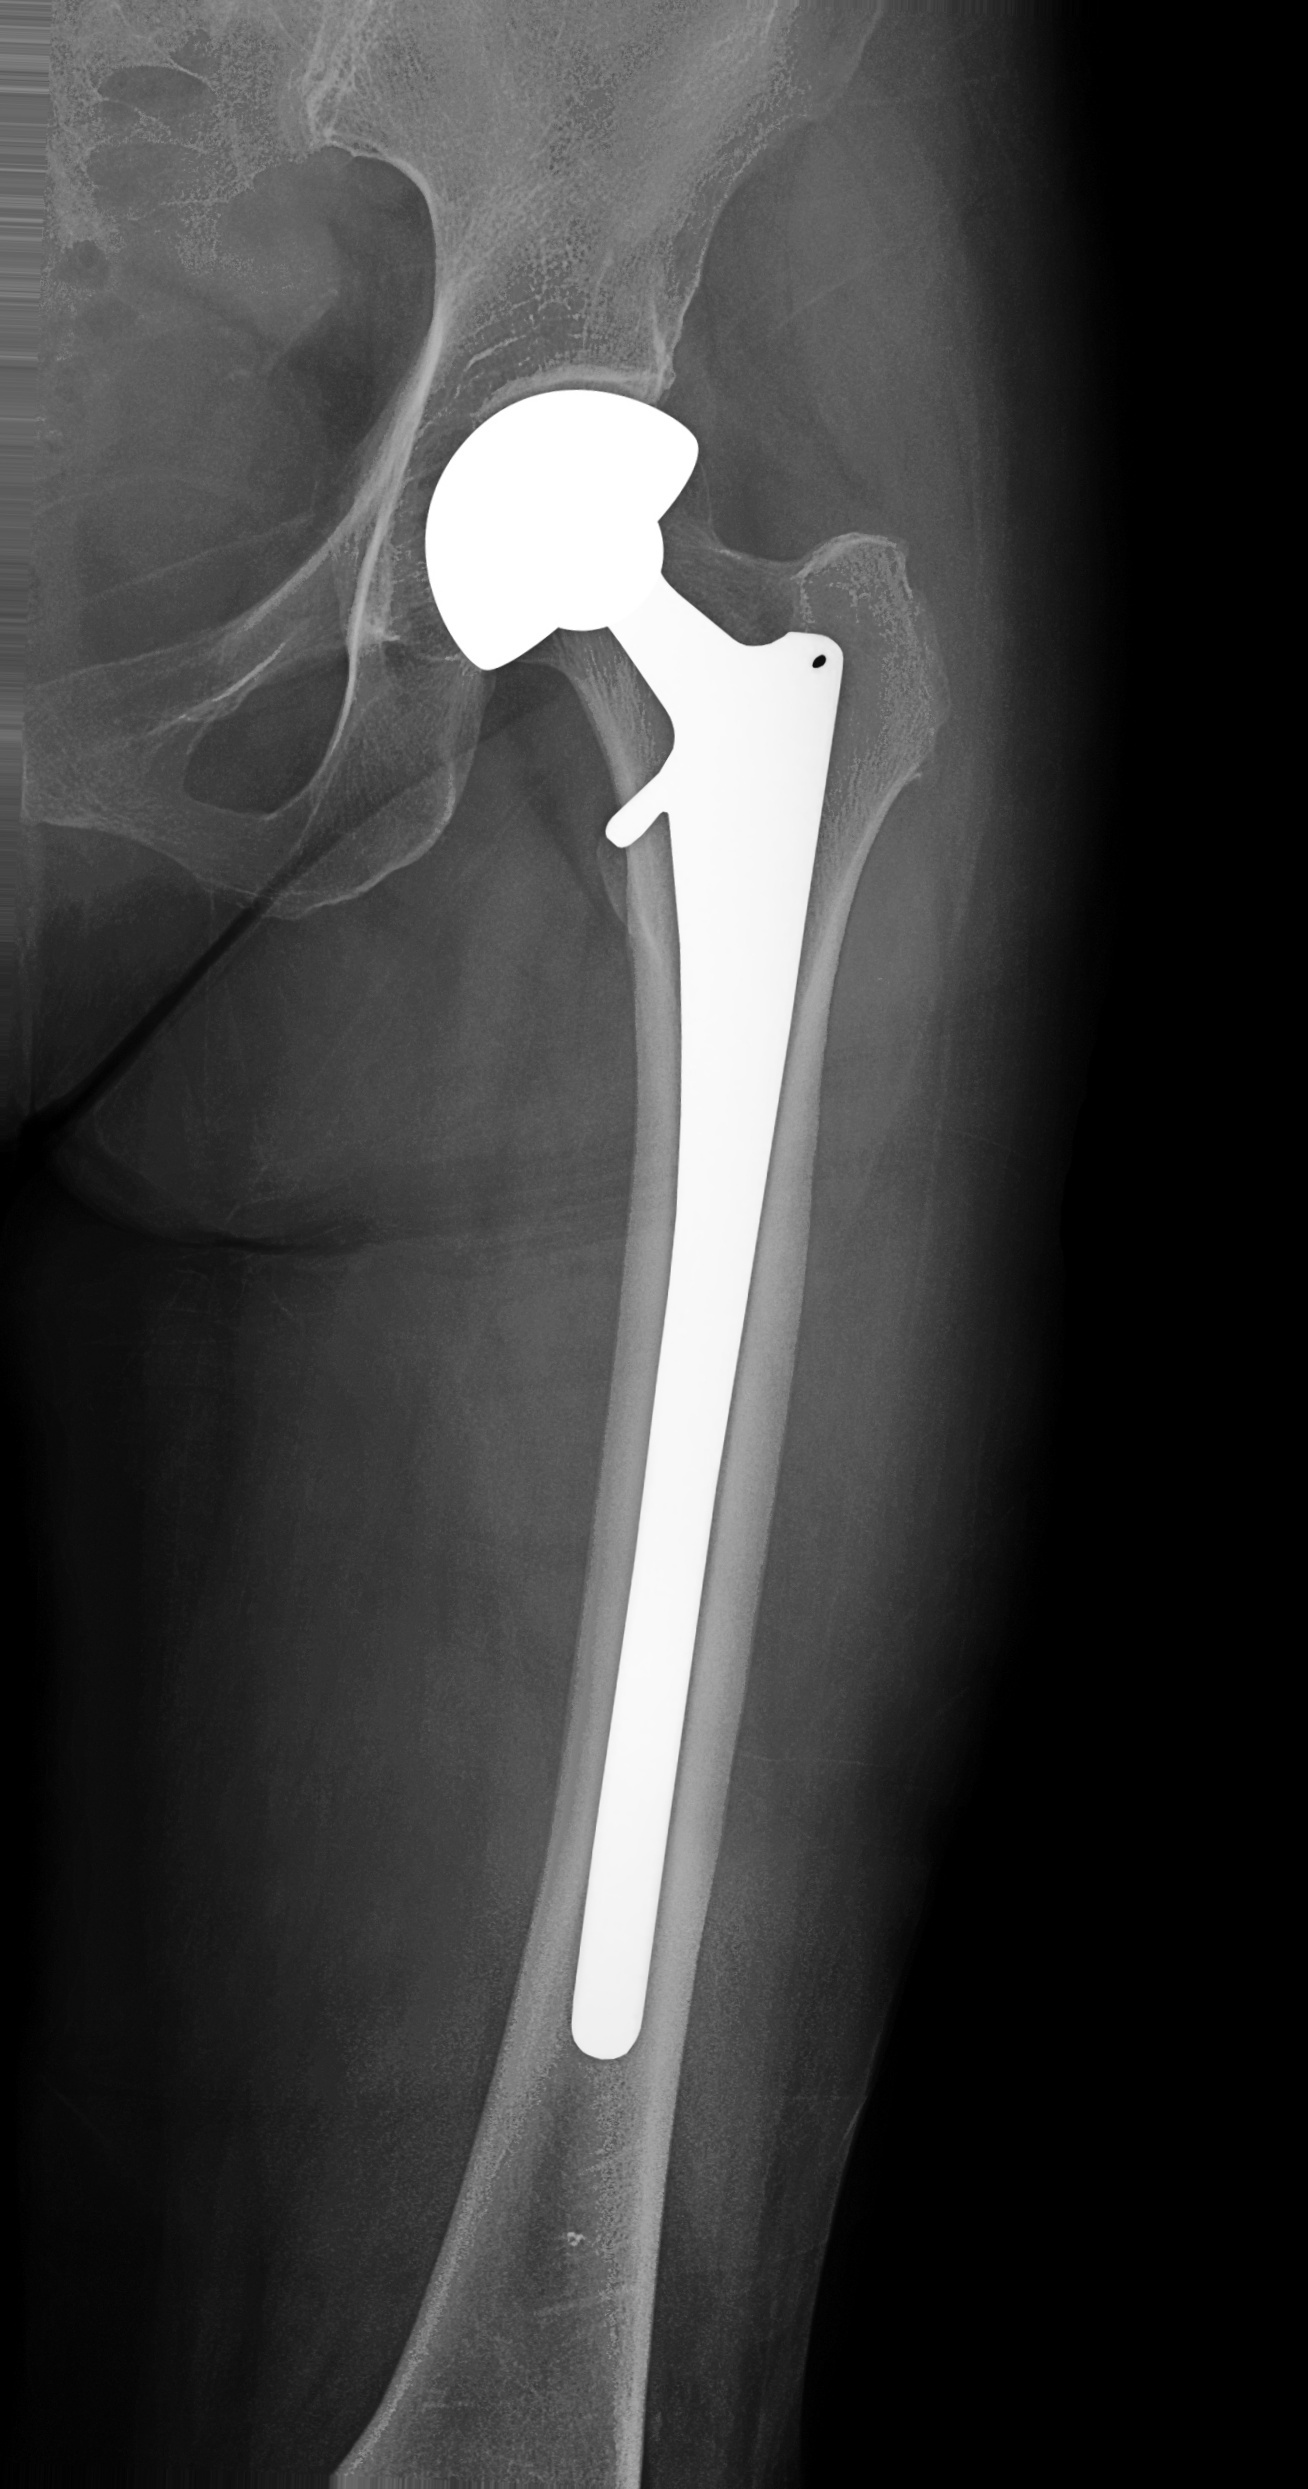Hip - Bias - Zimmer: (403, 369, 869, 2086)
